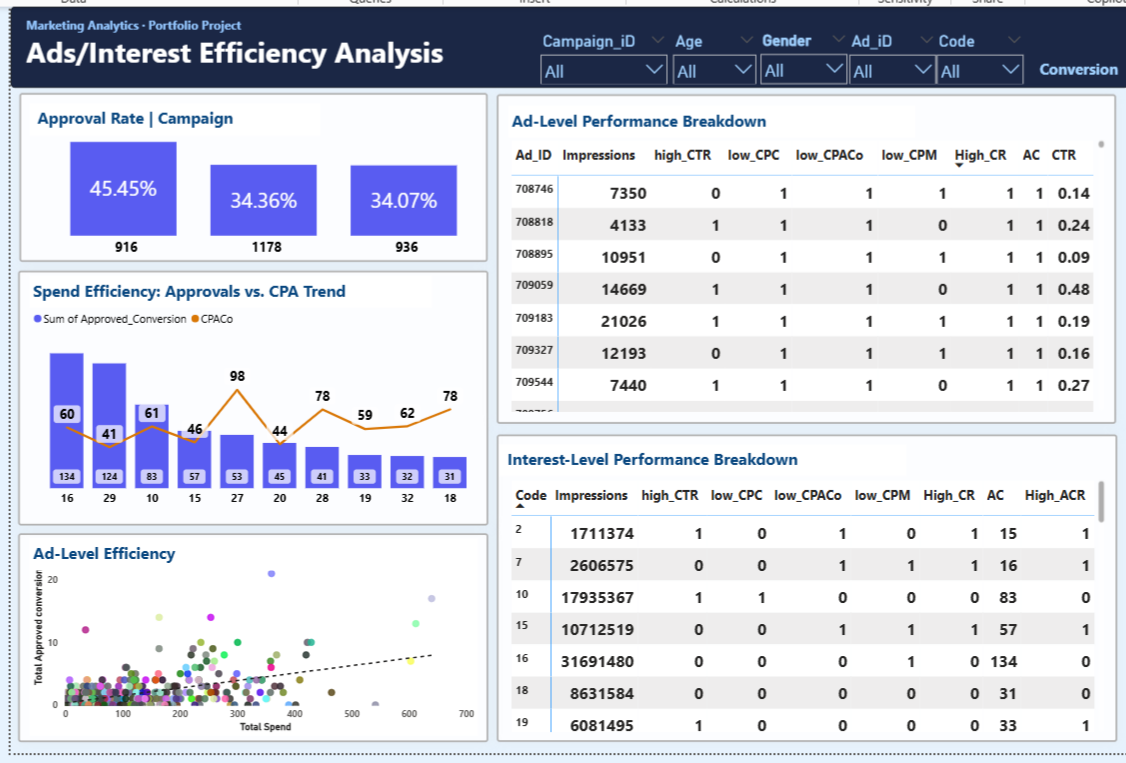

This screenshot's page, from the dashboard's own definition file:
{"tool":"powerbi","page":{"name":"Ads/Interest Efficiency Analysis","canvas":[1500,1000],"ordinal":1},"visuals":[{"type":"shape","box":[651.7,573.3,831.7,411.7],"z":0},{"type":"shape","box":[10,705,630,280],"z":1000},{"type":"shape","box":[10,353.3,630,341.7],"z":2000},{"type":"shape","box":[11.7,116,628.3,226.7],"z":3000},{"type":"shape","box":[651.7,116.7,830,441.7],"z":4000},{"type":"lineClusteredColumnComboChart","fields":{"Category":["KAG_conversion_data.interest"],"Y2":["_Measures.CPACo"],"Y":["Sum(KAG_conversion_data.Approved_Conversion)"]},"box":[25,396.7,615,281.7],"z":5000},{"type":"clusteredColumnChart","fields":{"Category":["KAG_conversion_data.xyz_campaign_id"],"Y":["_Measures.AR"]},"box":[0,129.3,686.7,215],"z":6000},{"type":"scatterChart","fields":{"Series":["KAG_conversion_data.ad_id"],"X":["Sum(KAG_conversion_data.Spent)"],"Y":["Sum(KAG_conversion_data.Approved_Conversion)"]},"box":[25,711.7,601.7,265],"z":7000},{"type":"pivotTable","fields":{"Values":["Sum(KAG_conversion_data.Impressions)","_Measures.high_CTR","_Measures.low_CPC","_Measures.low_CPACo","_Measures.low_CPM","_Measures.High_CR","Sum(KAG_conversion_data.Approved_Conversion)","_Measures.CTR"],"Rows":["KAG_conversion_data.ad_id"]},"box":[666.7,175,805,373.3],"z":8000},{"type":"textbox","box":[0,0,1499.3,108.7],"z":9000},{"type":"textbox","box":[25.6,129.3,390,44.4],"z":10000},{"type":"textbox","box":[25,711.7,390,43.3],"z":11000},{"type":"textbox","box":[25,361,540,43.3],"z":12000},{"type":"textbox","box":[655,586.7,546.7,43.3],"z":13000},{"type":"textbox","box":[666.7,131.7,546.7,43.3],"z":14000},{"type":"pivotTable","fields":{"Values":["Sum(KAG_conversion_data.Impressions)","_Measures.high_CTR","_Measures.low_CPC","_Measures.low_CPACo","_Measures.low_CPM","_Measures.High_CR","Sum(KAG_conversion_data.Approved_Conversion)","_Measures.High_ACR"],"Rows":["KAG_conversion_data.interest"]},"box":[666.7,630,805,346.7],"z":15000},{"type":"slicer","fields":{"Values":["KAG_conversion_data.gender"]},"box":[994.7,28.7,136.7,75],"z":16000},{"type":"slicer","fields":{"Values":["KAG_conversion_data.ad_id"]},"box":[1114.7,28.7,136.7,75],"z":17000},{"type":"slicer","fields":{"Values":["KAG_conversion_data.age"]},"box":[878,28.7,131.7,75],"z":18000},{"type":"slicer","fields":{"Values":["KAG_conversion_data.xyz_campaign_id"]},"box":[699.7,28.7,190,75],"z":19000},{"type":"slicer","fields":{"Values":["KAG_conversion_data.interest"]},"box":[1231.3,28.7,136.7,75],"z":20000},{"type":"actionButton","box":[1368.3,55,126.7,55],"z":20001}]}

Visuals, with their boxes on the page's 1500x1000 design canvas (x1, y1, x2, y2). These are canvas units, not pixel positions in the 1126x763 screenshot, which may show the page scaled, cropped or inside an application window:
shape: bbox=[652, 573, 1483, 985]
shape: bbox=[10, 705, 640, 985]
shape: bbox=[10, 353, 640, 695]
shape: bbox=[12, 116, 640, 343]
shape: bbox=[652, 117, 1482, 558]
lineClusteredColumnComboChart - KAG_conversion_data.interest x _Measures.CPACo: bbox=[25, 397, 640, 678]
clusteredColumnChart - KAG_conversion_data.xyz_campaign_id x _Measures.AR: bbox=[0, 129, 687, 344]
scatterChart - KAG_conversion_data.ad_id x Sum(KAG_conversion_data.Spent): bbox=[25, 712, 627, 977]
pivotTable - Sum(KAG_conversion_data.Impressions) x _Measures.high_CTR: bbox=[667, 175, 1472, 548]
textbox: bbox=[0, 0, 1499, 109]
textbox: bbox=[26, 129, 416, 174]
textbox: bbox=[25, 712, 415, 755]
textbox: bbox=[25, 361, 565, 404]
textbox: bbox=[655, 587, 1202, 630]
textbox: bbox=[667, 132, 1213, 175]
pivotTable - Sum(KAG_conversion_data.Impressions) x _Measures.high_CTR: bbox=[667, 630, 1472, 977]
slicer - KAG_conversion_data.gender: bbox=[995, 29, 1131, 104]
slicer - KAG_conversion_data.ad_id: bbox=[1115, 29, 1251, 104]
slicer - KAG_conversion_data.age: bbox=[878, 29, 1010, 104]
slicer - KAG_conversion_data.xyz_campaign_id: bbox=[700, 29, 890, 104]
slicer - KAG_conversion_data.interest: bbox=[1231, 29, 1368, 104]
actionButton: bbox=[1368, 55, 1495, 110]
